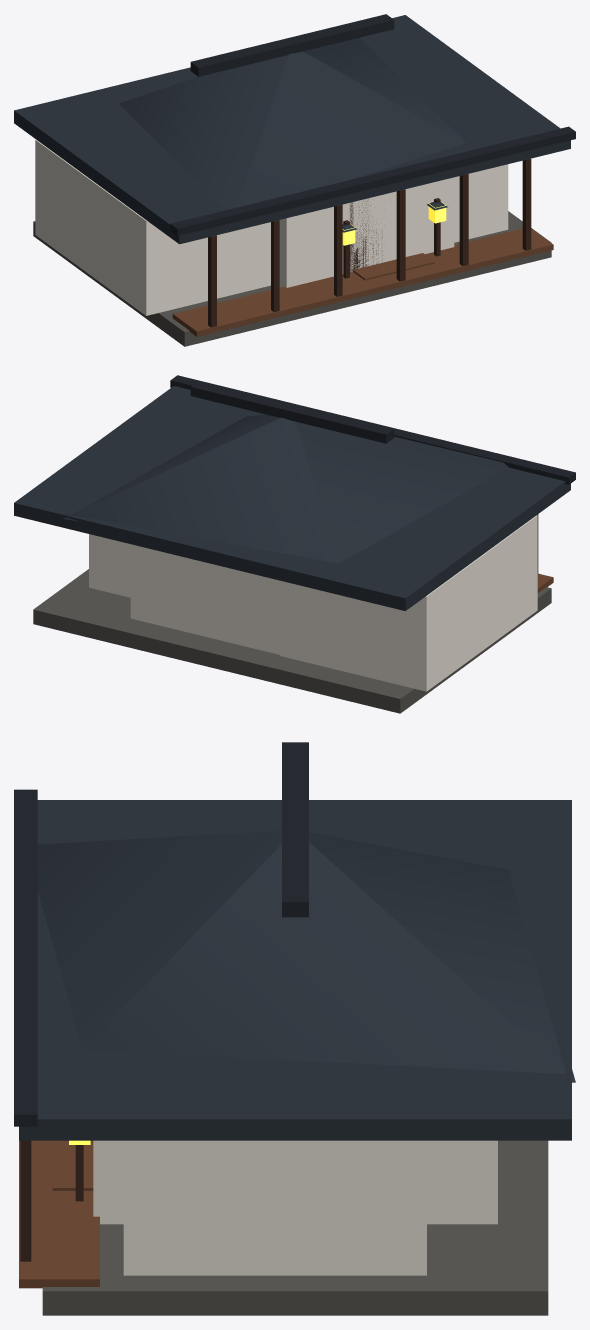
Rendered from OriginalRyokan.glb.
The picture shows the model from 3 angles, top to bottom: view 1: azimuth 30°, elevation 25°; view 2: azimuth 150°, elevation 25°; view 3: azimuth 270°, elevation 25°; orthographic projection. The views are drawn at different scales.
Bounding box in the file's own units: 11.4 × 5.63 × 8.33.
